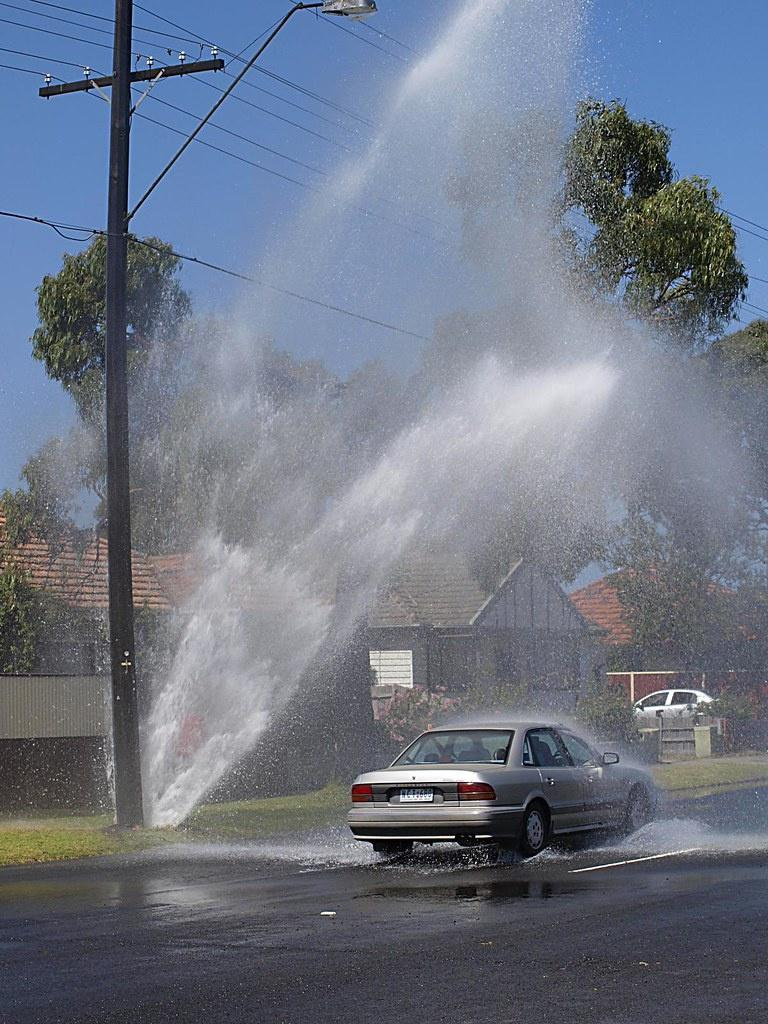pipe burst: (105, 0, 638, 828)
